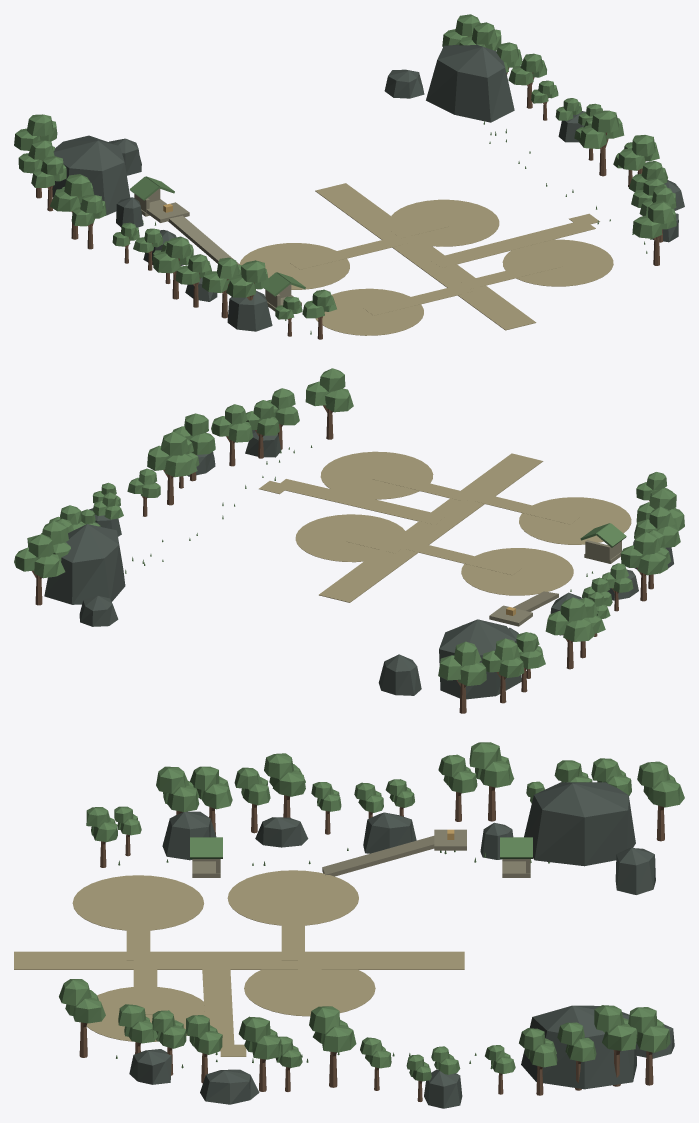
The model's file is Grounds_IronLowlands.glb.
3 renders of one model, top to bottom at view 1: azimuth 30°, elevation 25°; view 2: azimuth 150°, elevation 25°; view 3: azimuth 270°, elevation 25°, orthographic. The views are drawn at different scales.
Parts seen in each view (by area): view 1: Grounds_IronLowlands_IronLowlands_path_0_3, Grounds_IronLowlands_IronLowlands_path_-1_3, Grounds_IronLowlands_IronLowlands_dark_1_4, Grounds_IronLowlands_IronLowlands_leaf_-2_3, Grounds_IronLowlands_IronLowlands_dark_-2_4, Grounds_IronLowlands_IronLowlands_leaf_-2_4, Grounds_IronLowlands_IronLowlands_leaf_1_4, Grounds_IronLowlands_IronLowlands_leaf_1_3, Grounds_IronLowlands_IronLowlands_path_0_4, Grounds_IronLowlands_IronLowlands_stone_-1_4, Grounds_IronLowlands_IronLowlands_leaf_-2_5, Grounds_IronLowlands_IronLowlands_dark_-2_3 (+11 smaller); view 2: Grounds_IronLowlands_IronLowlands_path_0_3, Grounds_IronLowlands_IronLowlands_path_-1_3, Grounds_IronLowlands_IronLowlands_dark_1_4, Grounds_IronLowlands_IronLowlands_leaf_1_3, Grounds_IronLowlands_IronLowlands_leaf_-2_3, Grounds_IronLowlands_IronLowlands_leaf_-2_4, Grounds_IronLowlands_IronLowlands_leaf_1_4, Grounds_IronLowlands_IronLowlands_dark_-2_4, Grounds_IronLowlands_IronLowlands_leaf_-2_5, Grounds_IronLowlands_IronLowlands_leaf_1_5, Grounds_IronLowlands_IronLowlands_path_0_4, Grounds_IronLowlands_IronLowlands_leaf_0_3 (+6 smaller); view 3: Grounds_IronLowlands_IronLowlands_path_0_3, Grounds_IronLowlands_IronLowlands_path_-1_3, Grounds_IronLowlands_IronLowlands_dark_-2_4, Grounds_IronLowlands_IronLowlands_dark_1_4, Grounds_IronLowlands_IronLowlands_leaf_1_3, Grounds_IronLowlands_IronLowlands_leaf_1_4, Grounds_IronLowlands_IronLowlands_leaf_-2_3, Grounds_IronLowlands_IronLowlands_leaf_-2_4, Grounds_IronLowlands_IronLowlands_dark_-2_3, Grounds_IronLowlands_IronLowlands_dark_1_3, Grounds_IronLowlands_IronLowlands_path_0_4, Grounds_IronLowlands_IronLowlands_leaf_1_5 (+11 smaller).
Part boxes in pixels (bbox=[...]): Grounds_IronLowlands_IronLowlands_path_0_3: bbox=[379, 199, 613, 330]; Grounds_IronLowlands_IronLowlands_path_-1_3: bbox=[239, 236, 472, 335]; Grounds_IronLowlands_IronLowlands_dark_1_4: bbox=[426, 44, 585, 142]; Grounds_IronLowlands_IronLowlands_leaf_-2_3: bbox=[152, 236, 269, 297]; Grounds_IronLowlands_IronLowlands_dark_-2_4: bbox=[52, 135, 183, 265]; Grounds_IronLowlands_IronLowlands_leaf_-2_4: bbox=[31, 156, 163, 252]; Grounds_IronLowlands_IronLowlands_leaf_1_4: bbox=[496, 42, 624, 148]; Grounds_IronLowlands_IronLowlands_leaf_1_3: bbox=[591, 110, 676, 208]; Grounds_IronLowlands_IronLowlands_path_0_4: bbox=[315, 183, 405, 237]; Grounds_IronLowlands_IronLowlands_stone_-1_4: bbox=[134, 188, 239, 264]; Grounds_IronLowlands_IronLowlands_leaf_-2_5: bbox=[14, 114, 57, 173]; Grounds_IronLowlands_IronLowlands_dark_-2_3: bbox=[185, 277, 272, 331]; Grounds_IronLowlands_IronLowlands_path_0_3: bbox=[259, 451, 543, 562]; Grounds_IronLowlands_IronLowlands_path_-1_3: bbox=[403, 492, 631, 595]; Grounds_IronLowlands_IronLowlands_dark_1_4: bbox=[44, 508, 125, 604]; Grounds_IronLowlands_IronLowlands_leaf_1_3: bbox=[160, 388, 295, 466]; Grounds_IronLowlands_IronLowlands_leaf_-2_3: bbox=[610, 488, 684, 592]; Grounds_IronLowlands_IronLowlands_leaf_-2_4: bbox=[516, 572, 615, 668]; Grounds_IronLowlands_IronLowlands_leaf_1_4: bbox=[41, 445, 197, 533]; Grounds_IronLowlands_IronLowlands_dark_-2_4: bbox=[439, 592, 581, 699]; Grounds_IronLowlands_IronLowlands_leaf_-2_5: bbox=[438, 638, 524, 686]; Grounds_IronLowlands_IronLowlands_leaf_1_5: bbox=[14, 521, 70, 578]; Grounds_IronLowlands_IronLowlands_path_0_4: bbox=[319, 550, 414, 602]; Grounds_IronLowlands_IronLowlands_leaf_0_3: bbox=[222, 368, 353, 506]; Grounds_IronLowlands_IronLowlands_path_0_3: bbox=[14, 951, 375, 1056]; Grounds_IronLowlands_IronLowlands_path_-1_3: bbox=[72, 870, 358, 960]; Grounds_IronLowlands_IronLowlands_dark_-2_4: bbox=[363, 782, 635, 866]; Grounds_IronLowlands_IronLowlands_dark_1_4: bbox=[424, 1005, 636, 1108]; Grounds_IronLowlands_IronLowlands_leaf_1_3: bbox=[118, 1004, 339, 1067]; Grounds_IronLowlands_IronLowlands_leaf_1_4: bbox=[313, 1019, 596, 1081]; Grounds_IronLowlands_IronLowlands_leaf_-2_3: bbox=[156, 753, 339, 811]; Grounds_IronLowlands_IronLowlands_leaf_-2_4: bbox=[318, 742, 592, 850]; Grounds_IronLowlands_IronLowlands_dark_-2_3: bbox=[162, 811, 308, 860]; Grounds_IronLowlands_IronLowlands_dark_1_3: bbox=[129, 1049, 259, 1104]; Grounds_IronLowlands_IronLowlands_path_0_4: bbox=[312, 951, 464, 969]; Grounds_IronLowlands_IronLowlands_leaf_1_5: bbox=[594, 1005, 670, 1052].
Bounding box in the file's own units: 304 × 43.18 × 286.
